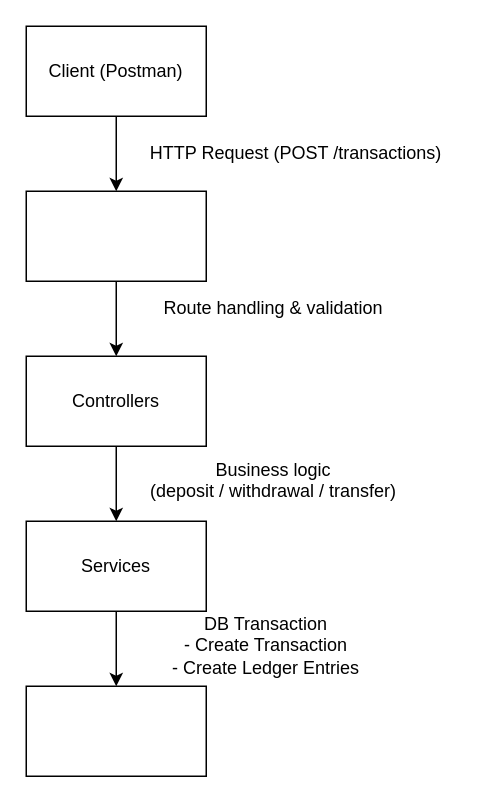
This 503x803 diagram has some shape labels left out. The shapes that lost their labels are listed below. From the top down, each one's box as (x1, y1, x2, y2) in pixels, then its label:
(25, 190, 206, 281): Express API
(25, 685, 206, 776): PostgreSQL
